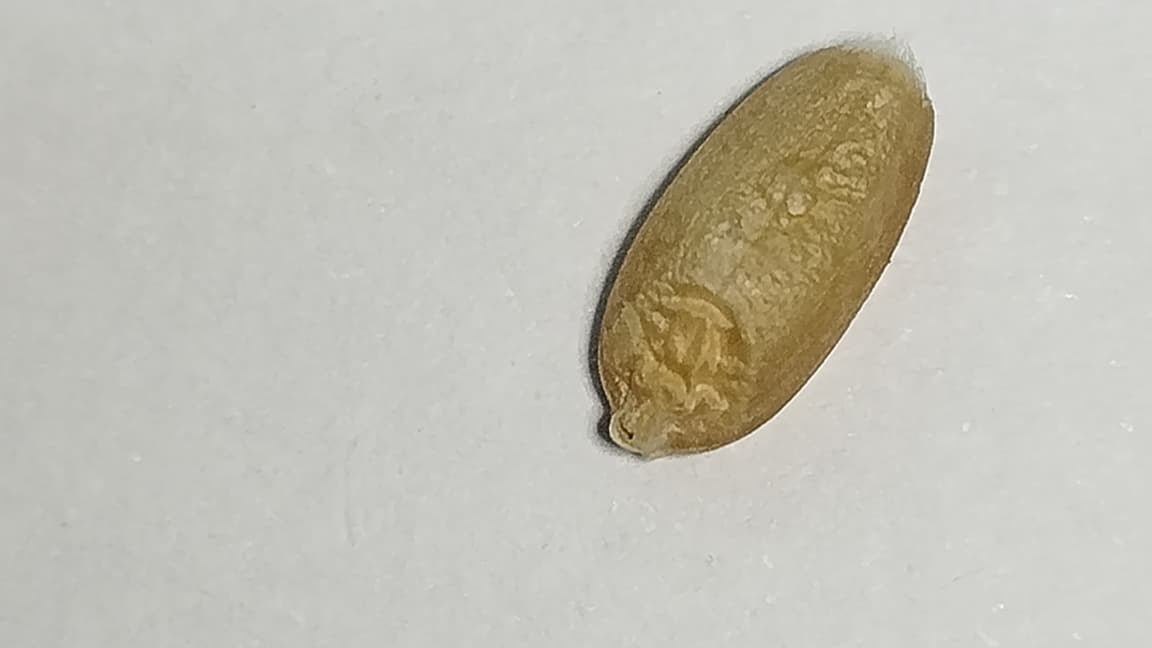healthy: (599, 44, 933, 455)
